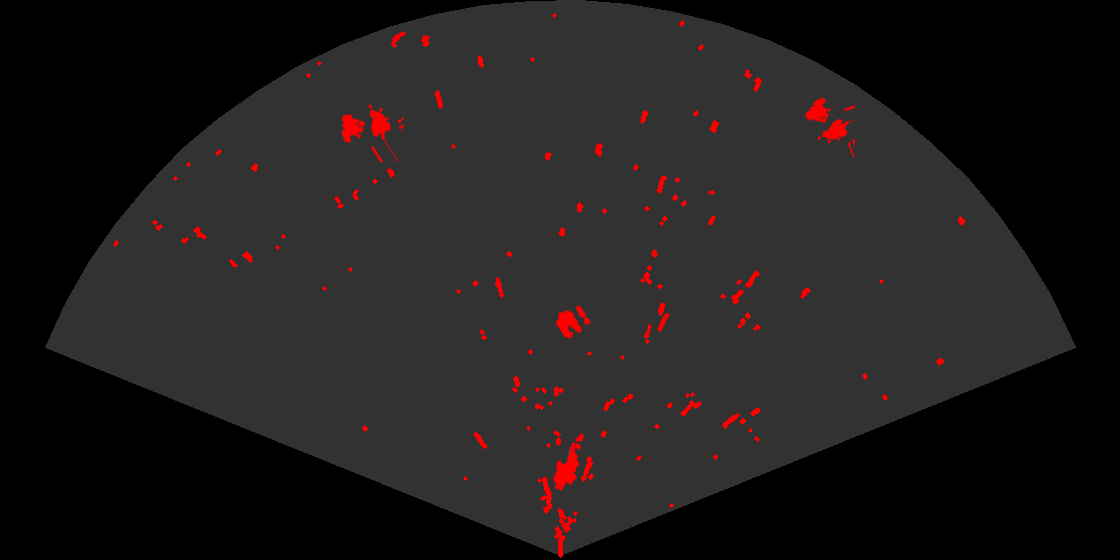AUV: (552, 444, 581, 492)
ball: (554, 304, 592, 340)
cage: (340, 103, 404, 162), (803, 96, 855, 157)
